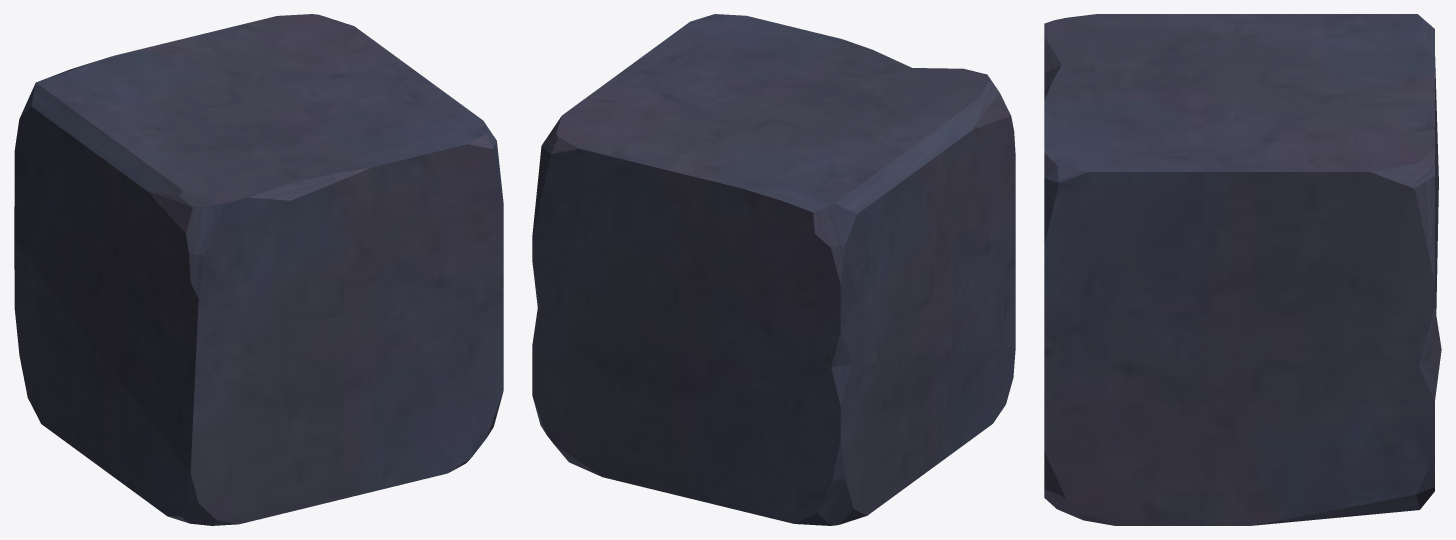
The model's file is BlueTpWall.fbx.
3 views of the same model, side by side, from view 1: azimuth 30°, elevation 25°; view 2: azimuth 150°, elevation 25°; view 3: azimuth 270°, elevation 25° (orthographic). The views are drawn at different scales.
Visible parts, largest first — view 1: Cube.005; view 2: Cube.005; view 3: Cube.005.
Part boxes in pixels (<box>): Cube.005: <box>14,14,503,525</box>; Cube.005: <box>532,14,1015,525</box>; Cube.005: <box>1044,14,1441,525</box>.
Size of the model in its own units: 205 by 202 by 203.
